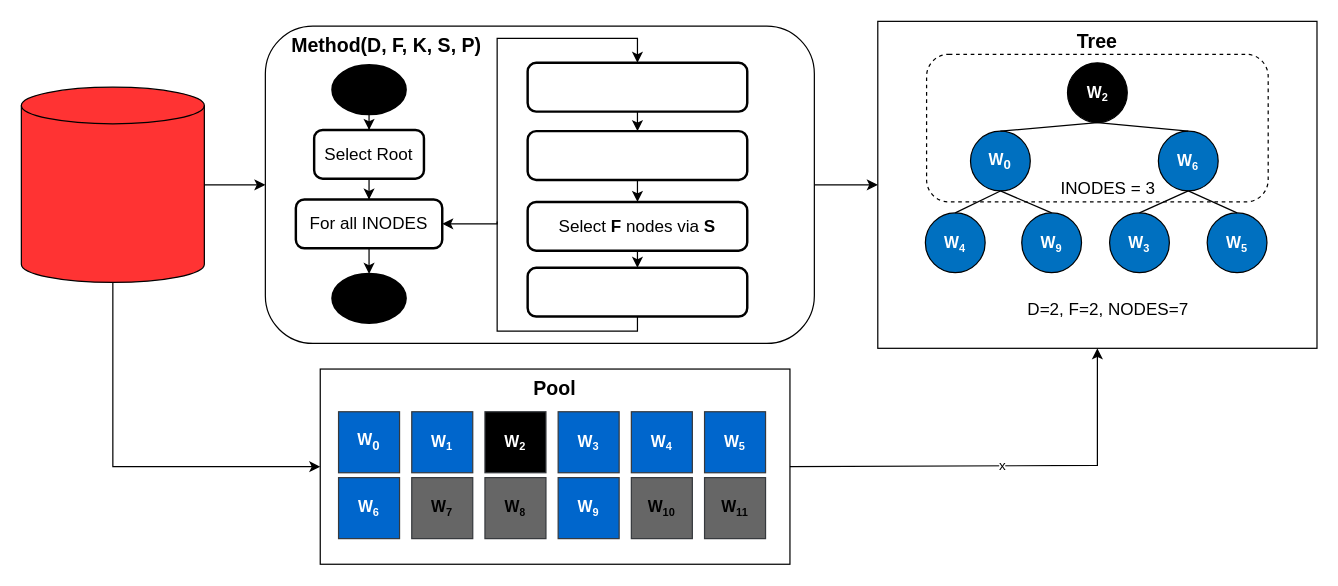
The diagram is 1338 pixels wide and 586 high, and some of its shapes have lost their labels. The centre of each missing label's shape, as x and y in pixels:
Deploy Parent OWD Job: (637,155)
End: (368,297)
Manager: (112,184)
Remove F nodes from Pool: (637,291)
Slice Pool in K Subset: (637,86)
Start: (368,89)
